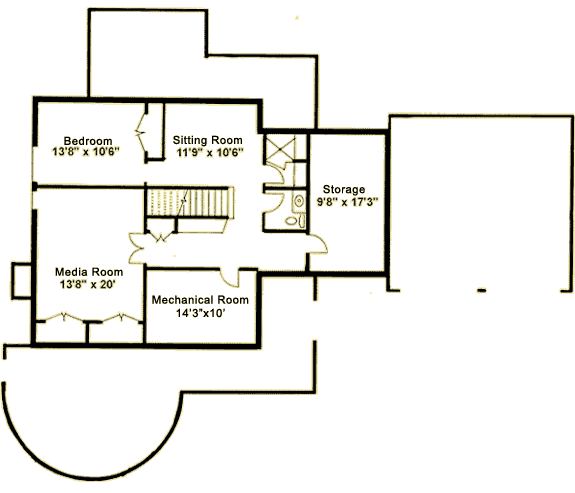door: (299, 230, 334, 257), (124, 231, 147, 269), (214, 262, 245, 290), (258, 162, 287, 189), (260, 190, 286, 219)
large sink: (282, 215, 308, 229)
small sink: (291, 189, 310, 214)
stairs: (141, 181, 241, 241)
